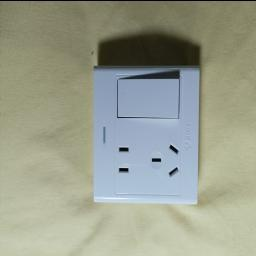outlet: (97, 55, 200, 217)
